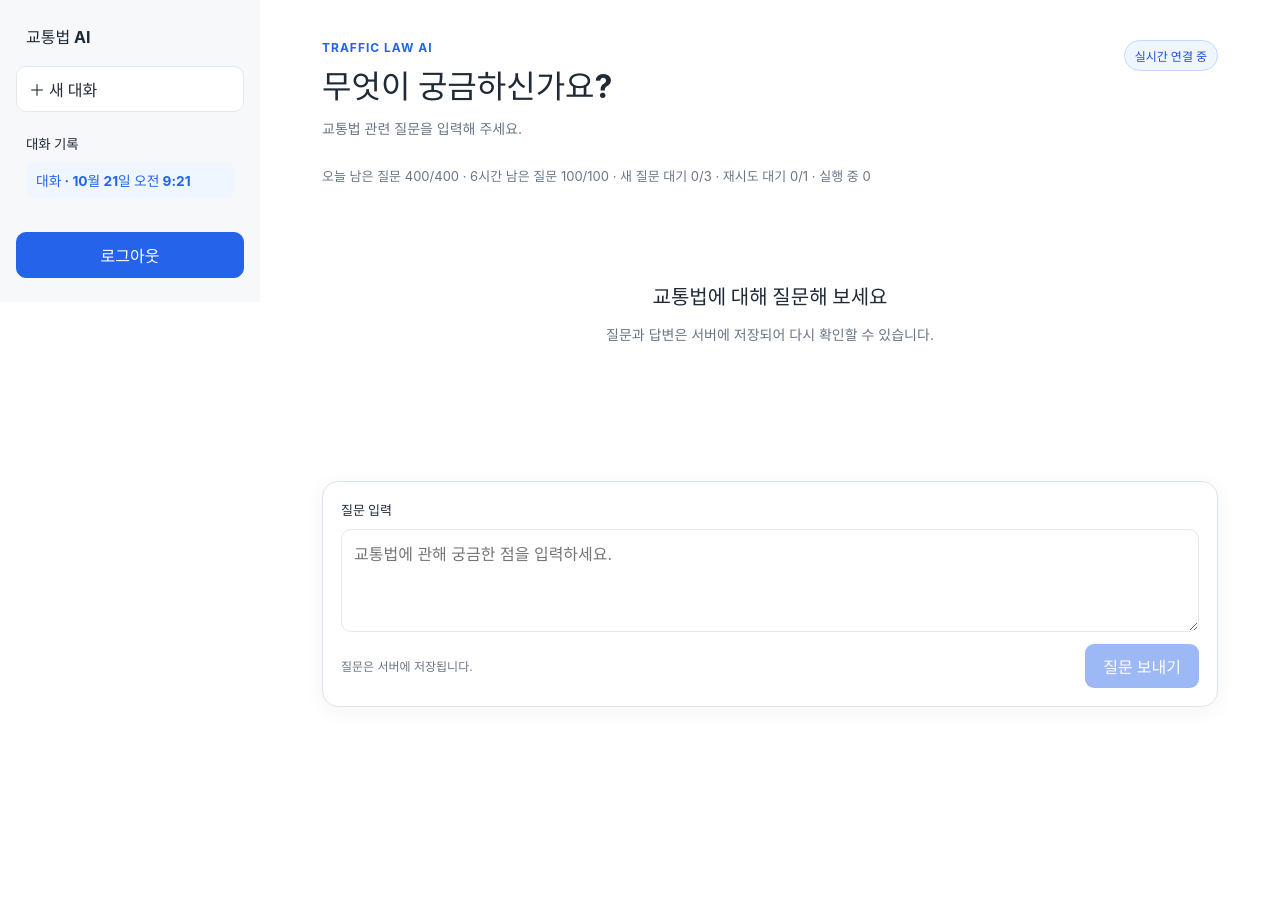
Test: 429 거절은 서버가 알려 준 남은 초를 보여 주고 입력을 잠그지 않는다
Type "질문" into the text box labelled "질문 입력" at (770, 581), box [341,529,1199,632]
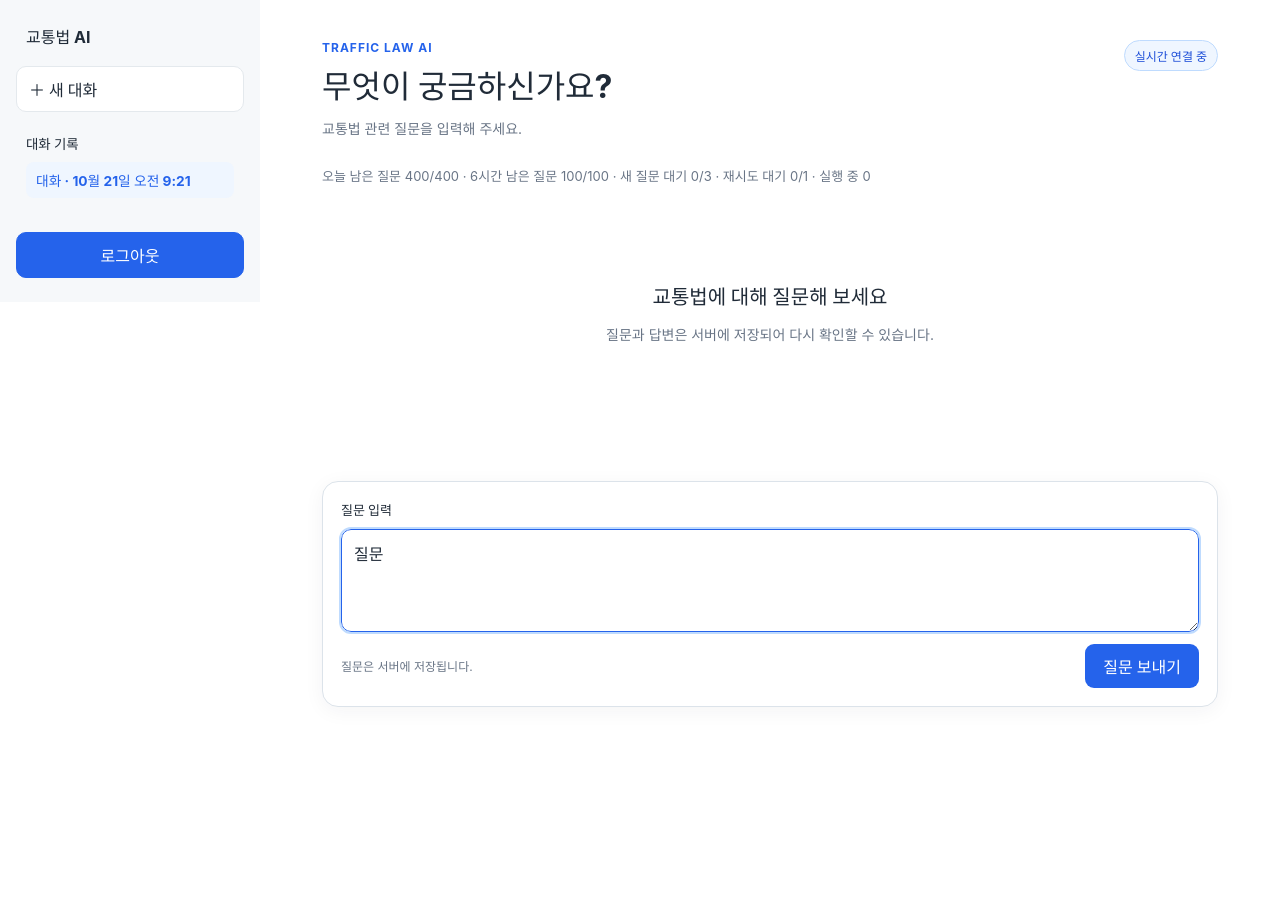
Click the button "질문 보내기" at (1142, 666), box [1085,644,1199,688]
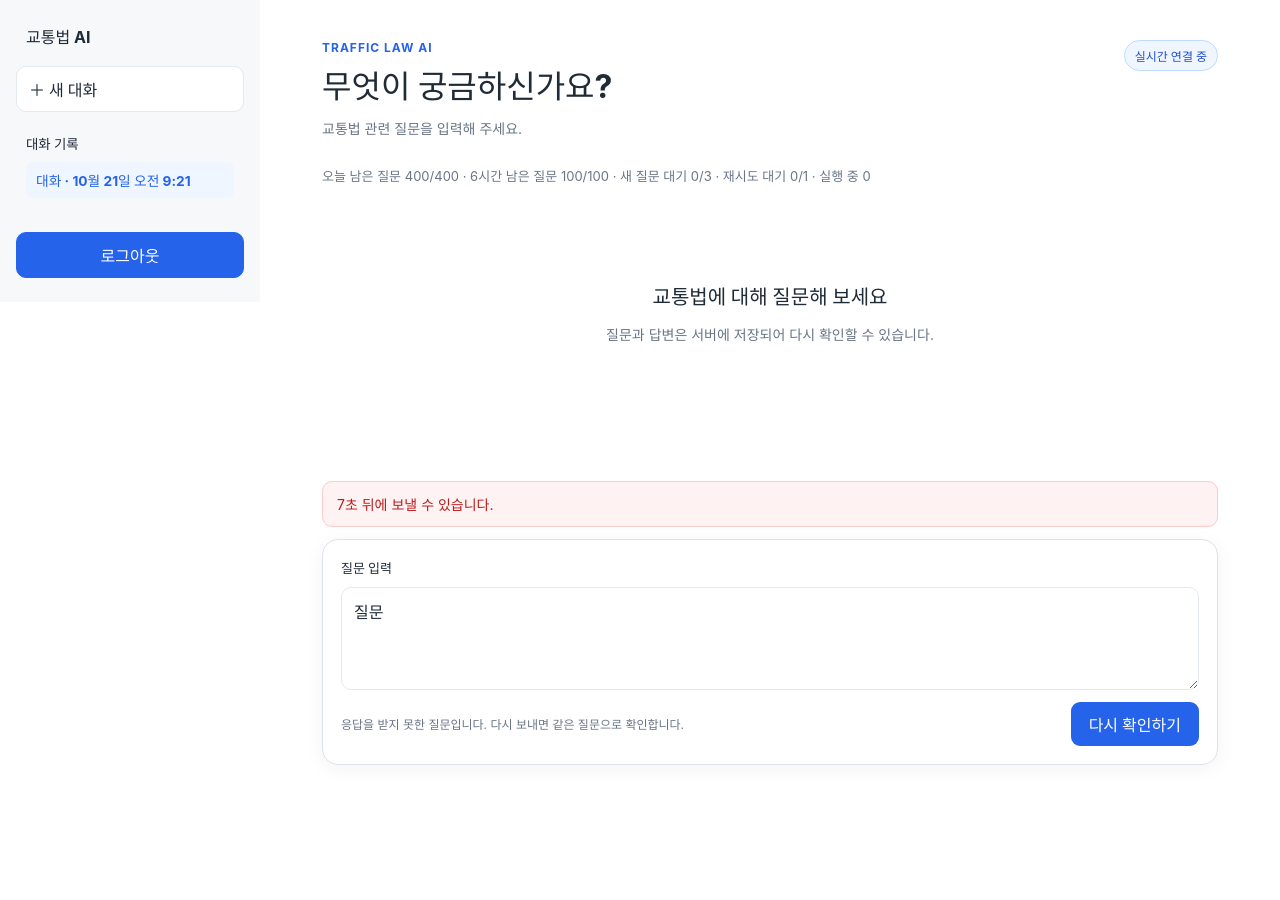
Expected: the text box labelled "질문 입력" is enabled, [341,587,1199,690]
Expected: the message "7초 뒤에 보낼 수 있습니다." is shown, [322,481,1218,527]
